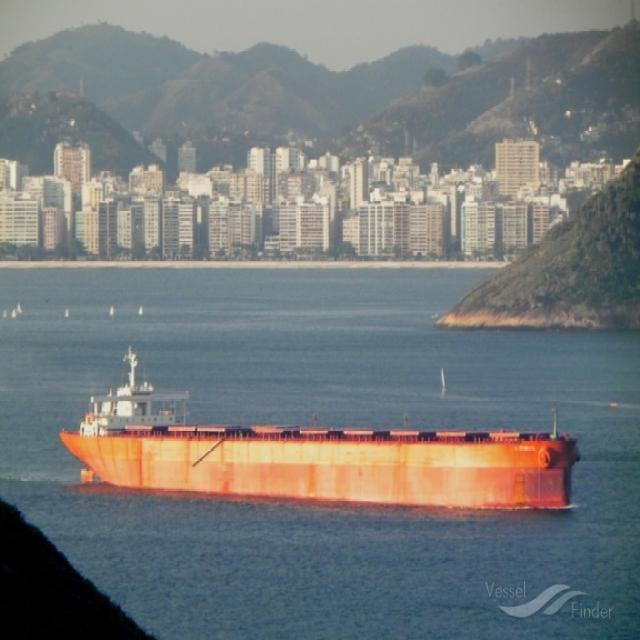Bulk Carrier: (56, 348, 580, 508)
